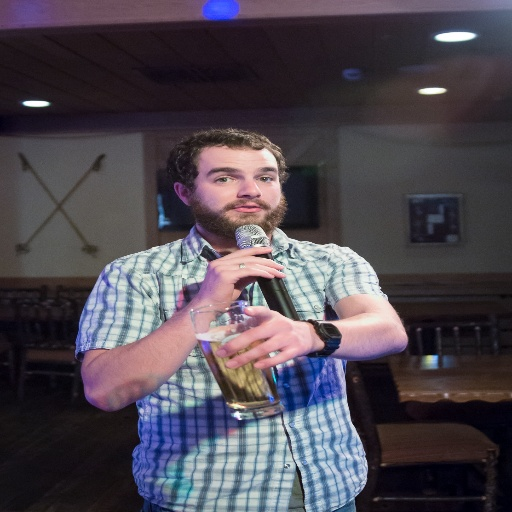hand: (223, 305, 339, 378), (197, 244, 284, 307)
